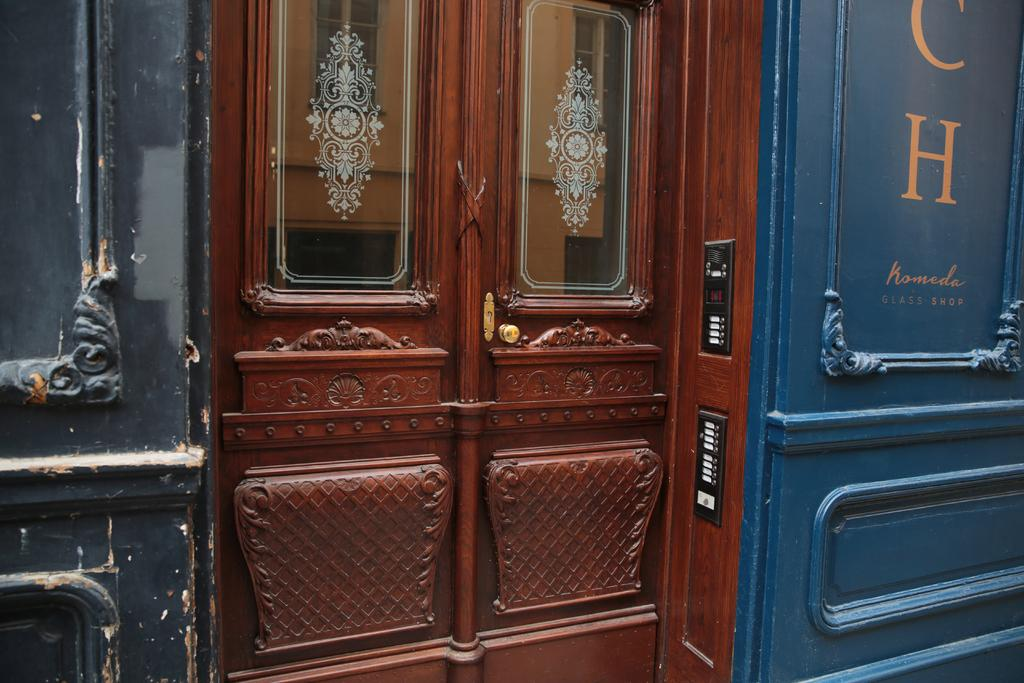handle: (497, 318, 524, 346)
